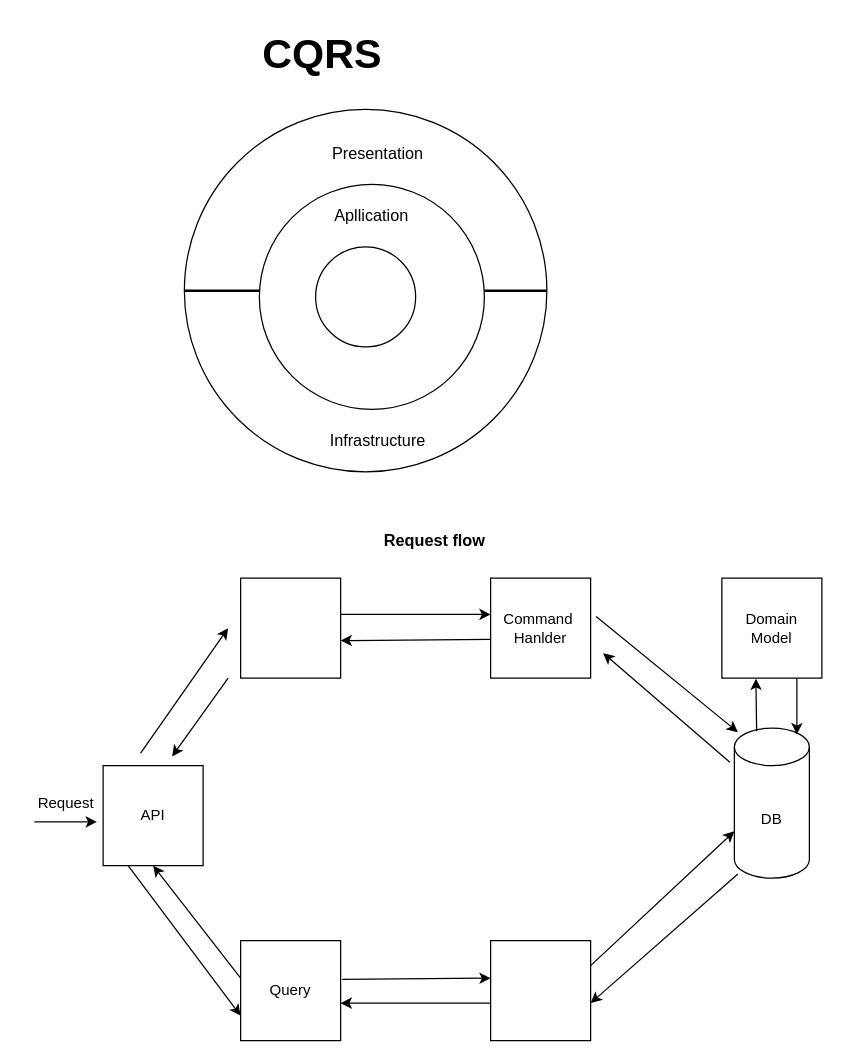
This 844x1063 diagram has some shape labels left out. Each missing label, with the centre of its shape:
"Command" goes at pixel 290 627.
"Domain" goes at pixel 365 296.
"Query Handler" goes at pixel 540 990.
